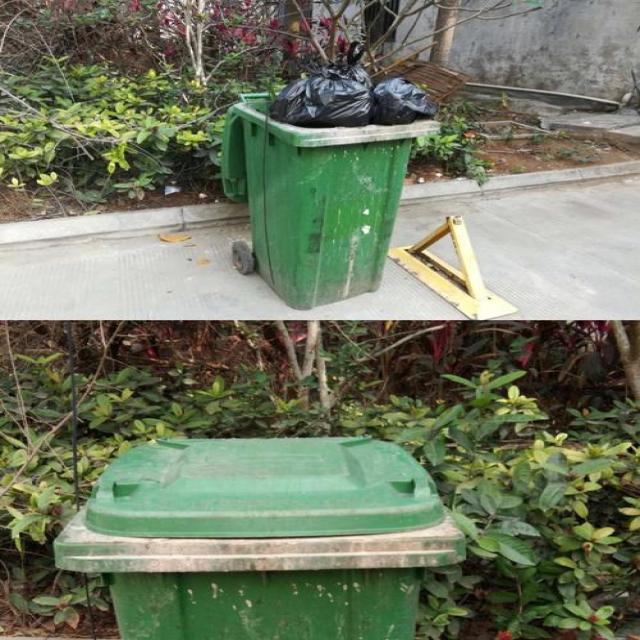garbage_bin: (54, 436, 466, 639)
overflow: (219, 66, 439, 310)
